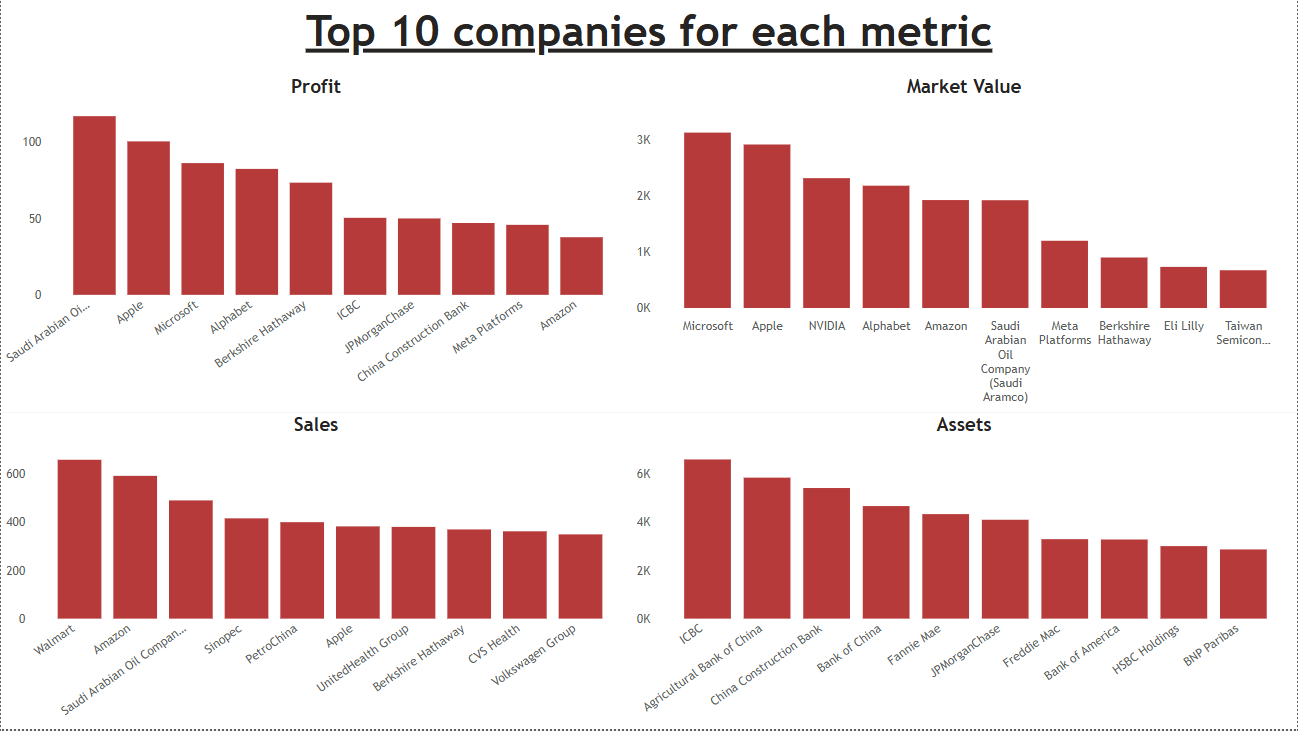

What the dashboard file says about the page in this screenshot:
{"tool":"powerbi","page":{"name":" Top 10 companies","canvas":[1280,720],"ordinal":3},"visuals":[{"type":"columnChart","title":"Profit","fields":{"Y":["Sum(top_2000_companies.Profit (Billon) )"],"Category":["top_2000_companies.Company"]},"box":[0,74.4,622.2,333.3],"z":0},{"type":"columnChart","title":"Market Value","fields":{"Y":["Sum(top_2000_companies.Market Values (Billon))"],"Category":["top_2000_companies.Company"]},"box":[622.2,74.4,657.8,333.3],"z":1000},{"type":"columnChart","title":"Sales","fields":{"Y":["Sum(top_2000_companies.Sales (Billon))"],"Category":["top_2000_companies.Company"]},"box":[0,407.8,622.2,312.2],"z":2000},{"type":"columnChart","title":"Assets","fields":{"Y":["Sum(top_2000_companies.Assets (Billon))"],"Category":["top_2000_companies.Company"]},"box":[622.2,407.8,657.8,312.2],"z":3000},{"type":"textbox","box":[0,0,1280,74.4],"z":4000}]}

Visuals, with their boxes in screenshot pixels (x1, y1, x2, y2), scaled from the page's 1280x720 canvas onto the 1298x731 screenshot:
"Profit" columnChart: {"x1": 0, "y1": 76, "x2": 631, "y2": 414}
"Market Value" columnChart: {"x1": 631, "y1": 76, "x2": 1297, "y2": 414}
"Sales" columnChart: {"x1": 0, "y1": 414, "x2": 631, "y2": 730}
"Assets" columnChart: {"x1": 631, "y1": 414, "x2": 1297, "y2": 730}
textbox: {"x1": 0, "y1": 0, "x2": 1297, "y2": 76}
